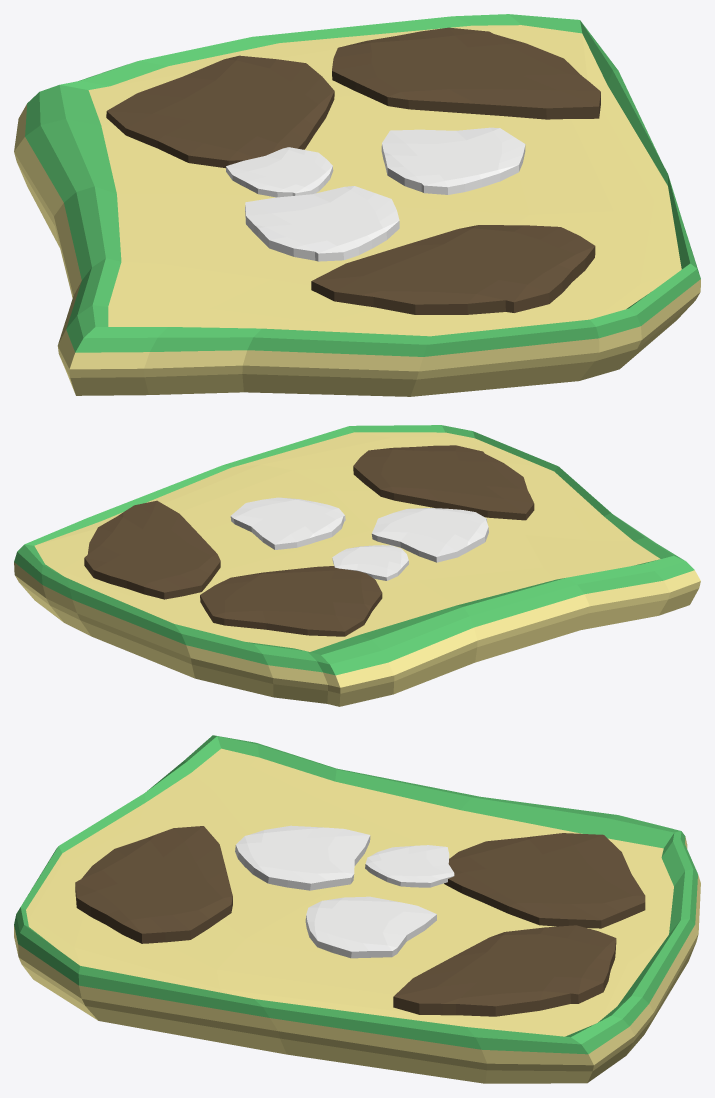
The model's file is MiniPlatform03.fbx.
3 views of the same model, one above another, from view 1: azimuth 30°, elevation 25°; view 2: azimuth 150°, elevation 25°; view 3: azimuth 270°, elevation 25° (orthographic). The views are drawn at different scales.
Visible parts, largest first — view 1: Plane.055; view 2: Plane.055; view 3: Plane.055.
Part boxes in pixels (bbox=[...]): Plane.055: bbox=[14, 14, 700, 396]; Plane.055: bbox=[14, 425, 700, 706]; Plane.055: bbox=[14, 735, 700, 1083].
Bounding box in the file's own units: 2136 × 215 × 1992.
